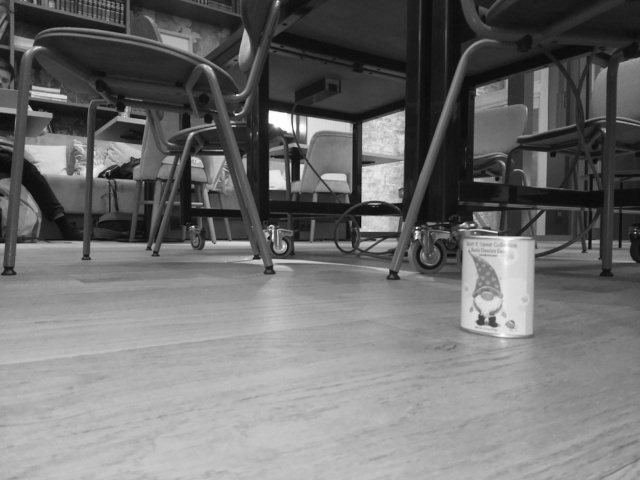gnome: (465, 248, 522, 333)
